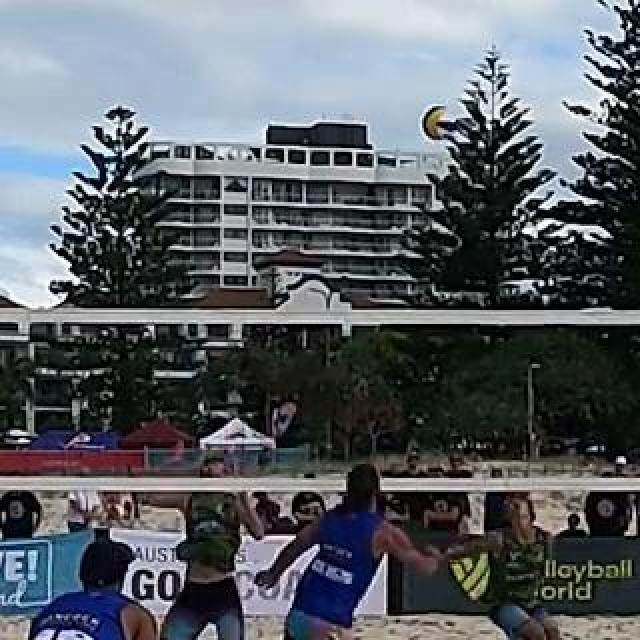volleyball: (421, 107, 453, 141)
